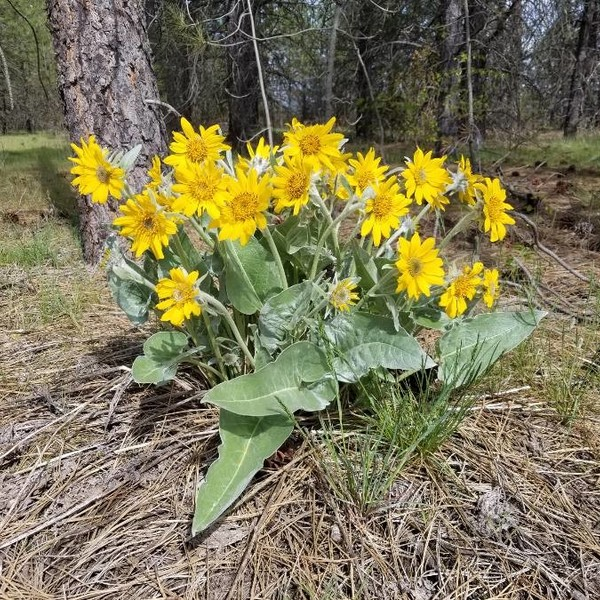obstacle: (41, 111, 518, 500)
